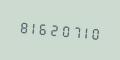eight: (17, 16, 26, 37)
one: (77, 21, 86, 42), (27, 17, 36, 37)
seven: (67, 20, 76, 41)
six: (37, 18, 46, 38)
two: (47, 18, 56, 39)
zero: (57, 19, 66, 40), (87, 22, 96, 43)
